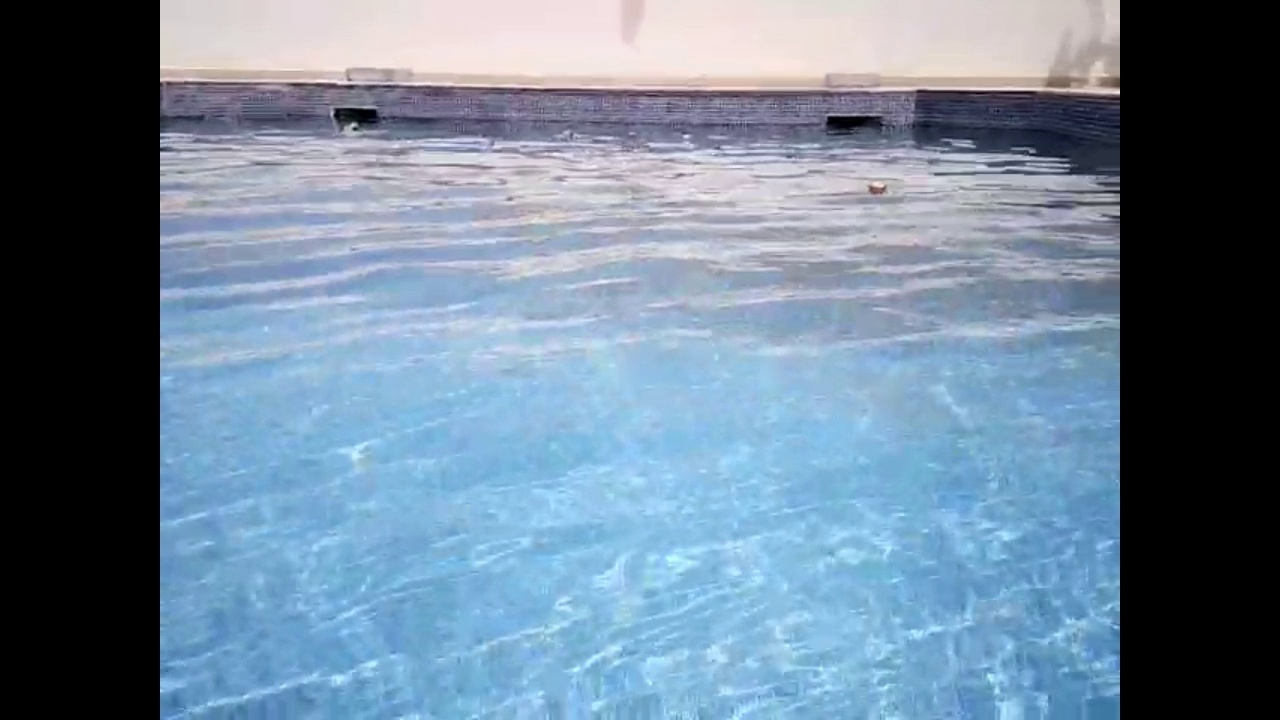debris: (863, 175, 890, 203), (555, 123, 580, 147), (338, 115, 360, 135)
